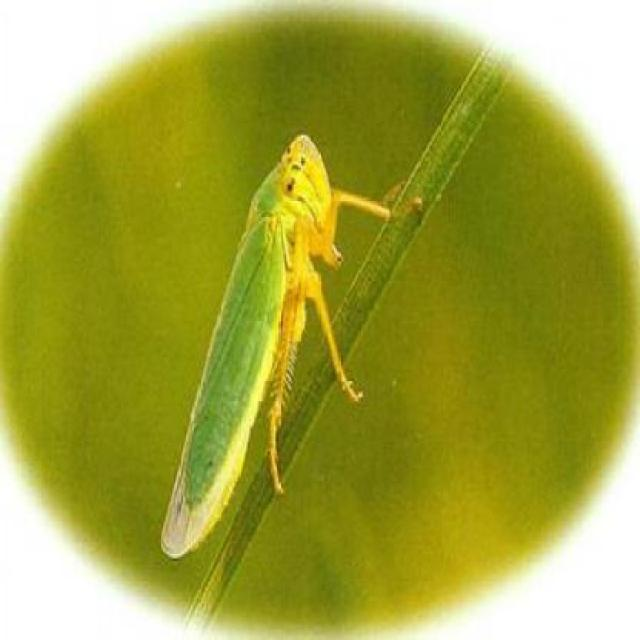green-leafhopper: (159, 134, 428, 557)
